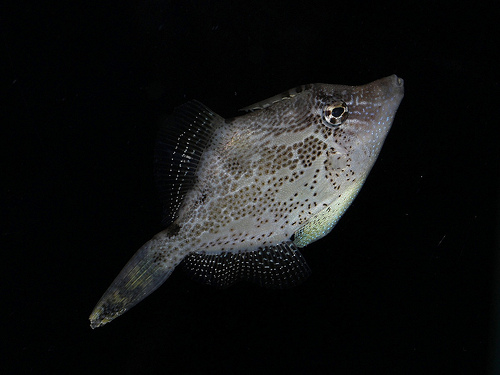fish: (89, 75, 405, 331)
